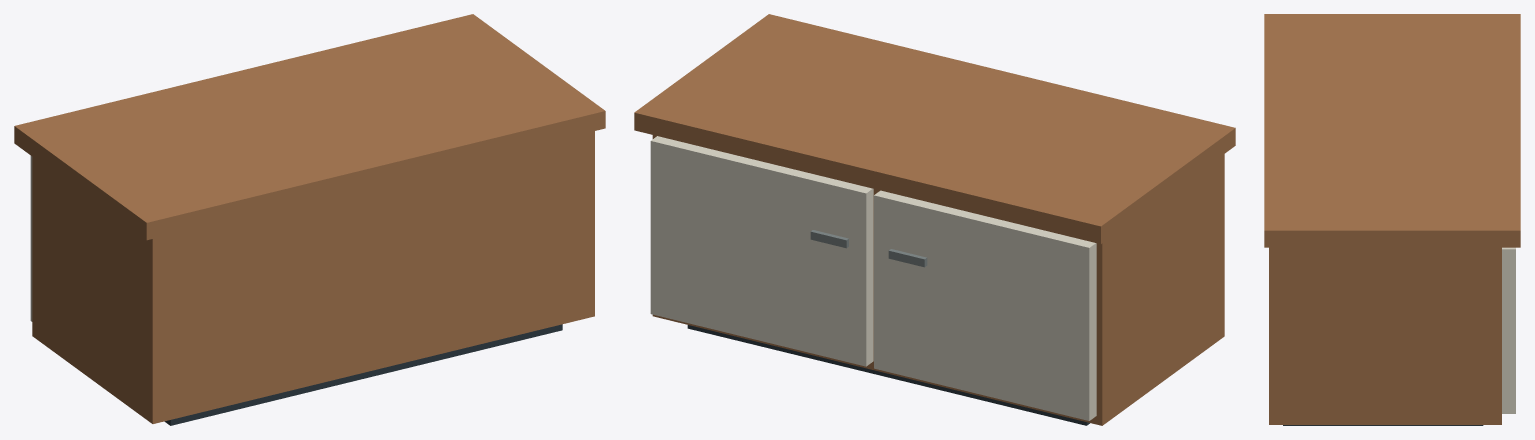
The model's file is tv_cabinet.glb.
3 views of the same model, side by side, from view 1: azimuth 30°, elevation 25°; view 2: azimuth 150°, elevation 25°; view 3: azimuth 270°, elevation 25° (orthographic). The views are drawn at different scales.
Visible parts, largest first — view 1: tv_cabinet; view 2: tv_cabinet; view 3: tv_cabinet.
Boxes of the visible parts, box(x1,y1,x2,y2) form: tv_cabinet: box(14, 14, 605, 425); tv_cabinet: box(634, 14, 1235, 425); tv_cabinet: box(1264, 14, 1520, 425).
Size of the model in its own units: 1.1 by 0.5 by 0.55.
